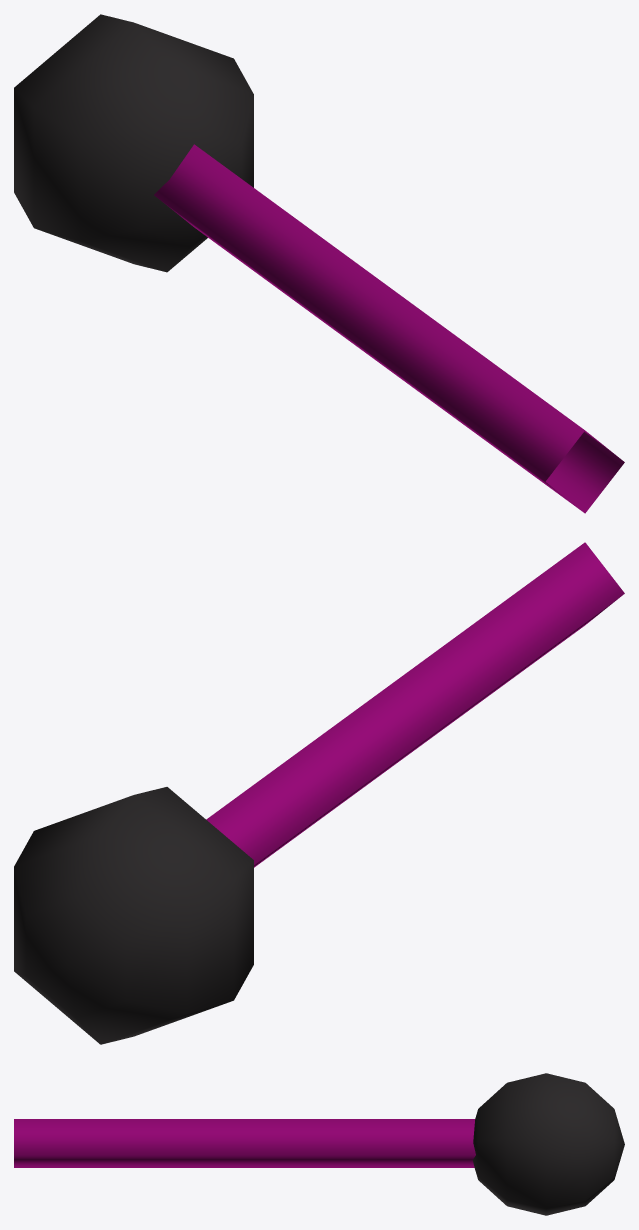
The model's file is Controls_Lever_02.fbx.
The picture shows the model from 3 angles, top to bottom: view 1: azimuth 30°, elevation 25°; view 2: azimuth 150°, elevation 25°; view 3: azimuth 270°, elevation 25°; orthographic projection. The views are drawn at different scales.
Parts seen in each view (by area): view 1: SubwayCart_01_Controls_Lever_02_low; view 2: SubwayCart_01_Controls_Lever_02_low; view 3: SubwayCart_01_Controls_Lever_02_low.
Boxes of the visible parts, x1,y1,x2,y2 form: SubwayCart_01_Controls_Lever_02_low: (14, 14, 624, 513); SubwayCart_01_Controls_Lever_02_low: (14, 542, 624, 1044); SubwayCart_01_Controls_Lever_02_low: (14, 1073, 624, 1215).
Size of the model in its own units: 0.0355 by 0.041 by 0.1594.
